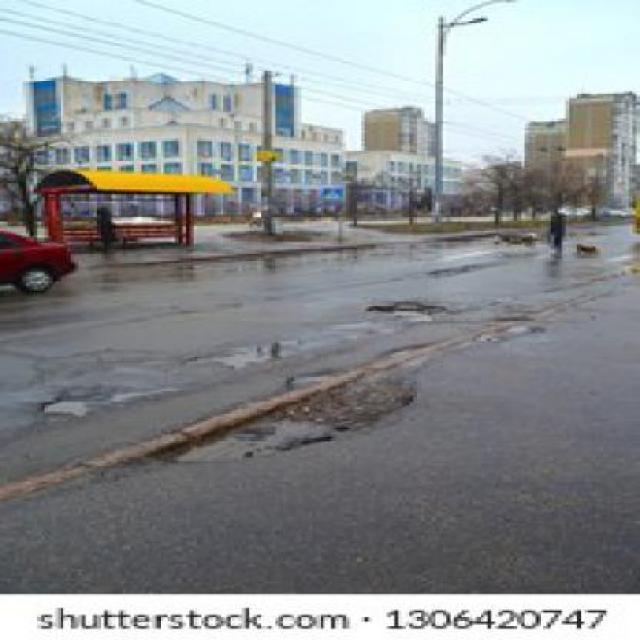Pothole: (147, 367, 419, 465)
